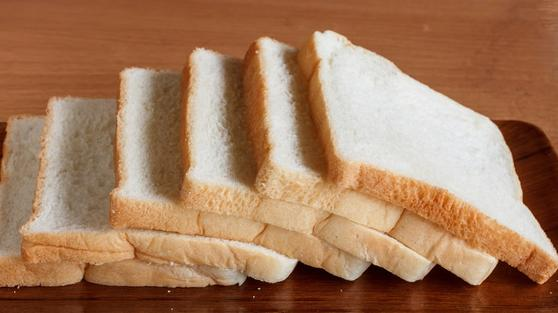white_bread: (72, 52, 554, 298)
